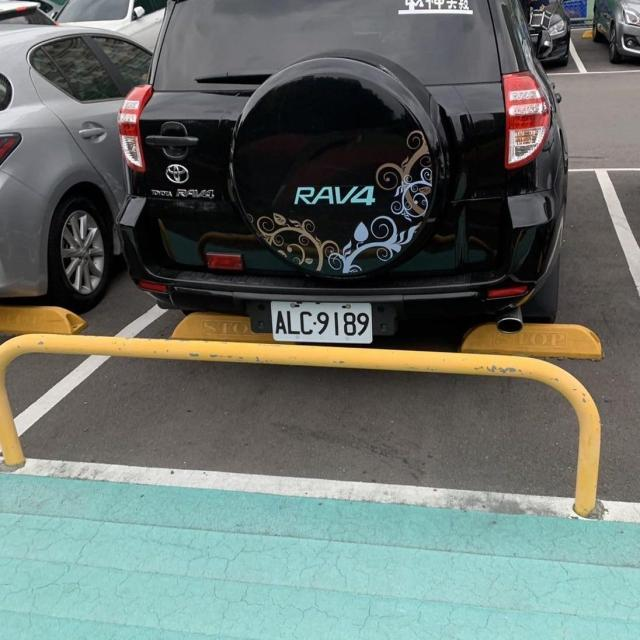W: (267, 292, 374, 347)
